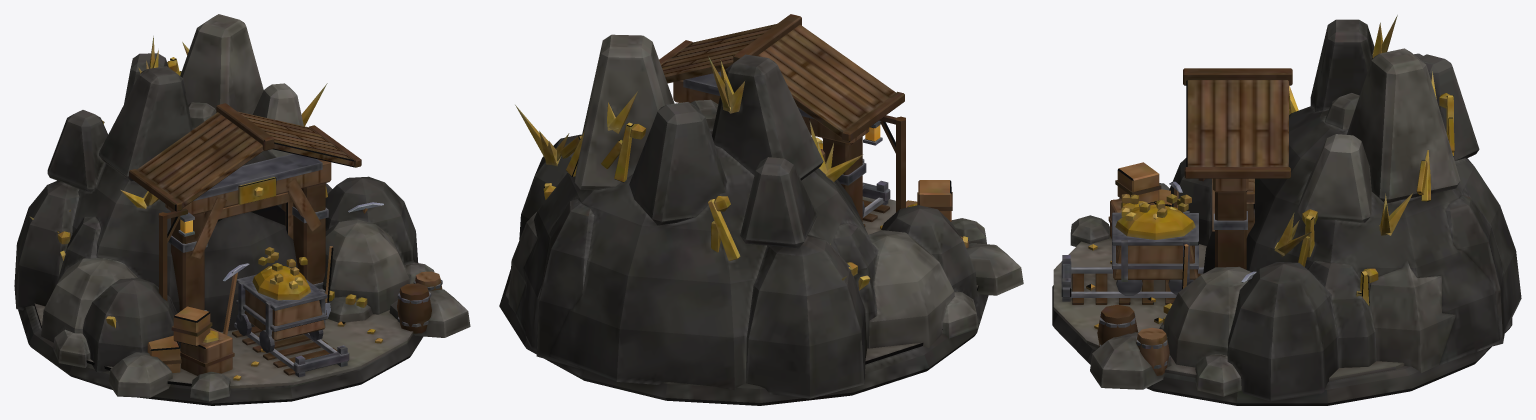
Rendered from gold_mine.glb.
3 views of the same model, side by side, from view 1: azimuth 30°, elevation 25°; view 2: azimuth 150°, elevation 25°; view 3: azimuth 270°, elevation 25° (orthographic). The views are drawn at different scales.
Visible parts, largest first — view 1: Static_Mesh; view 2: Static_Mesh; view 3: Static_Mesh.
Boxes of the visible parts, <box> form: Static_Mesh: <box>14,14,470,405</box>; Static_Mesh: <box>499,14,1023,405</box>; Static_Mesh: <box>1052,15,1521,405</box>.
Size of the model in its own units: 7.03 by 4.58 by 6.84.
1 material, 1 textured.
